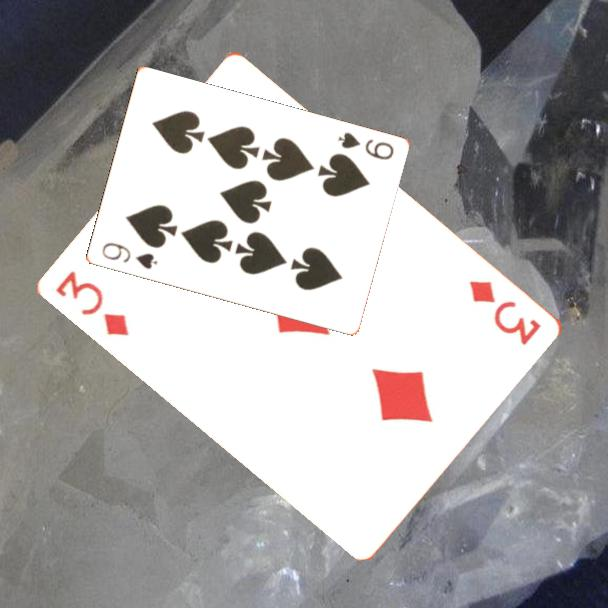d03: (52, 267, 133, 339), (466, 276, 545, 349)
s09: (334, 129, 396, 163), (98, 239, 160, 272)
